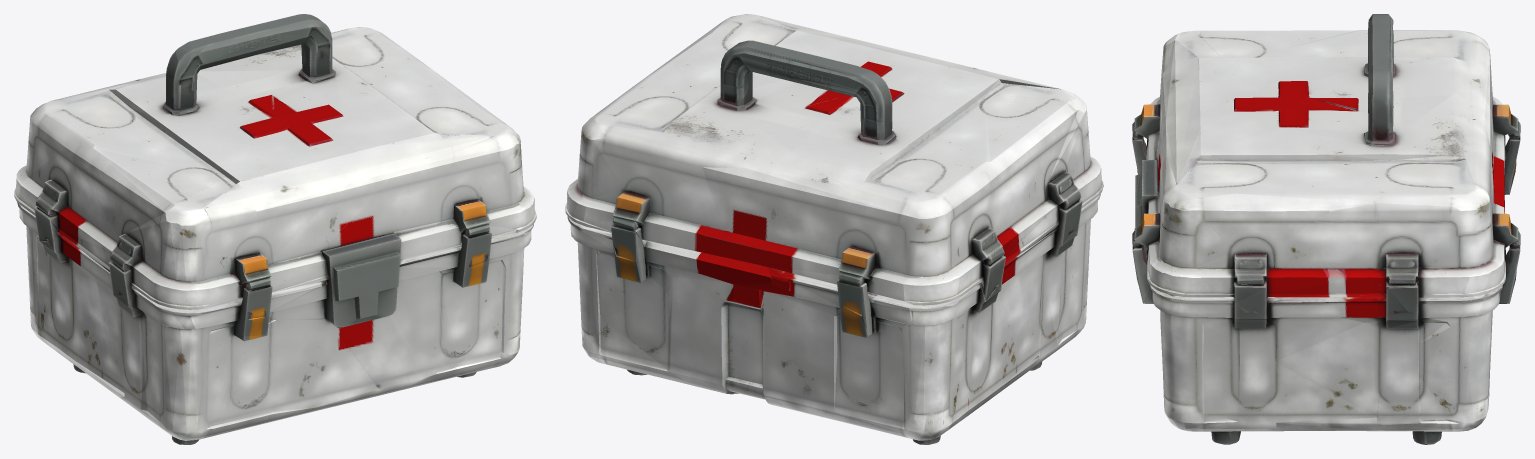
3 views of the same model, side by side, from view 1: azimuth 30°, elevation 25°; view 2: azimuth 150°, elevation 25°; view 3: azimuth 270°, elevation 25° (orthographic). The views are drawn at different scales.
Bounding box in the file's own units: 1.9 × 1.48 × 1.59.
1 material, 1 textured.
